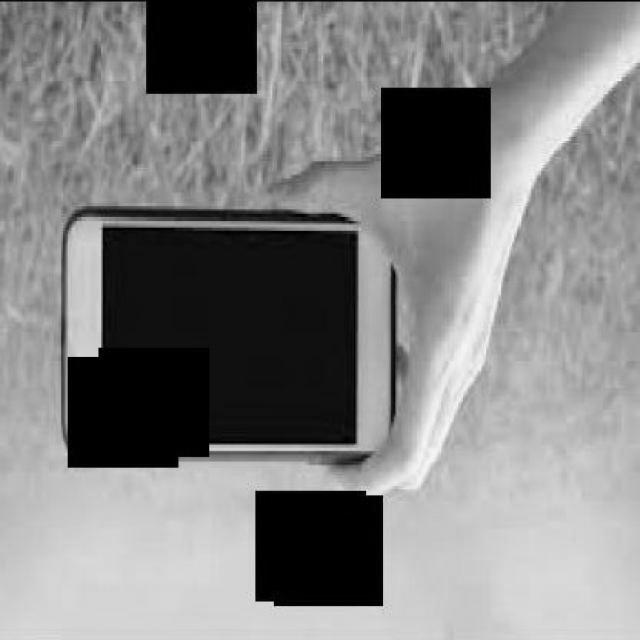fake: (60, 213, 398, 462)
